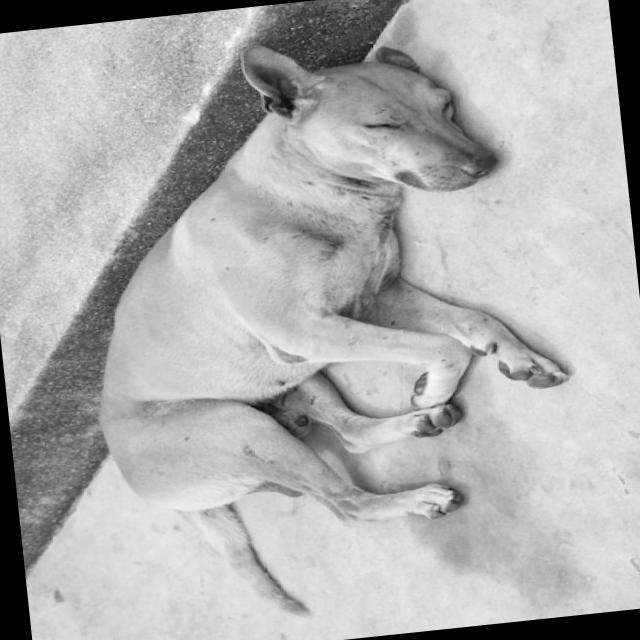laying down: (51, 11, 599, 640)
